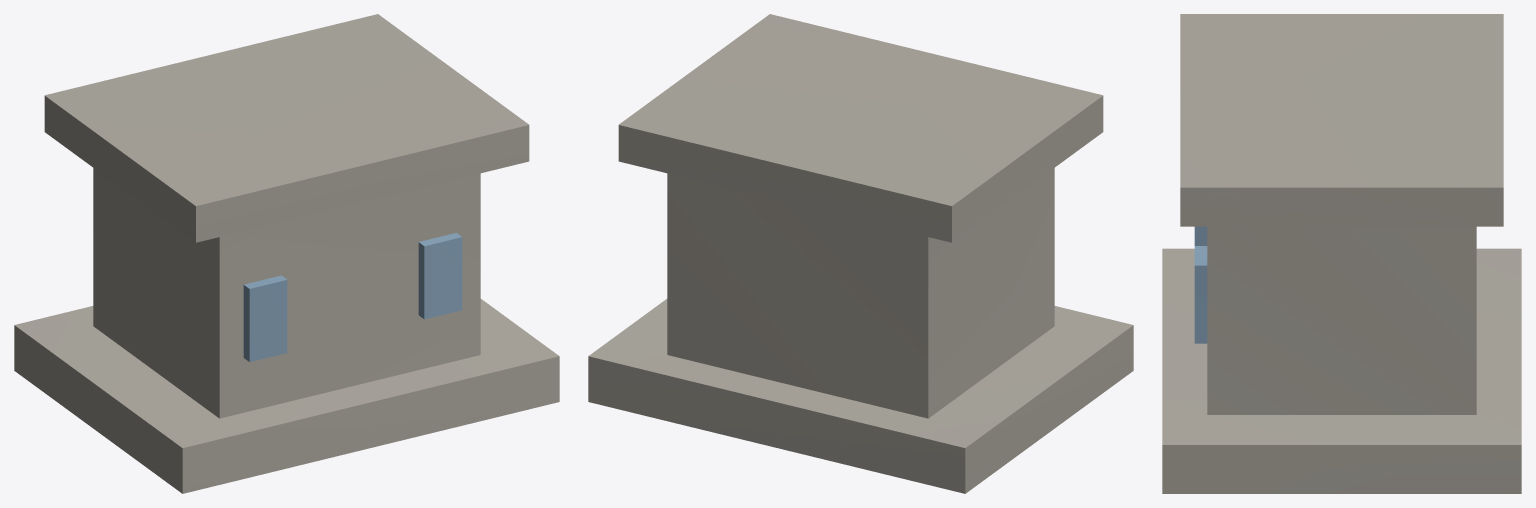
Rendered from rail_station-04.glb.
The picture shows the model from 3 angles, left to right: view 1: azimuth 30°, elevation 25°; view 2: azimuth 150°, elevation 25°; view 3: azimuth 270°, elevation 25°; orthographic projection. The views are drawn at different scales.
Parts seen in each view (by area): view 1: world; view 2: world; view 3: world.
Boxes of the visible parts, bbox=[...] form: world: bbox=[14, 14, 559, 493]; world: bbox=[588, 14, 1133, 493]; world: bbox=[1162, 14, 1521, 493].
Bounding box in the file's own units: 1.29 × 0.9057 × 1.
